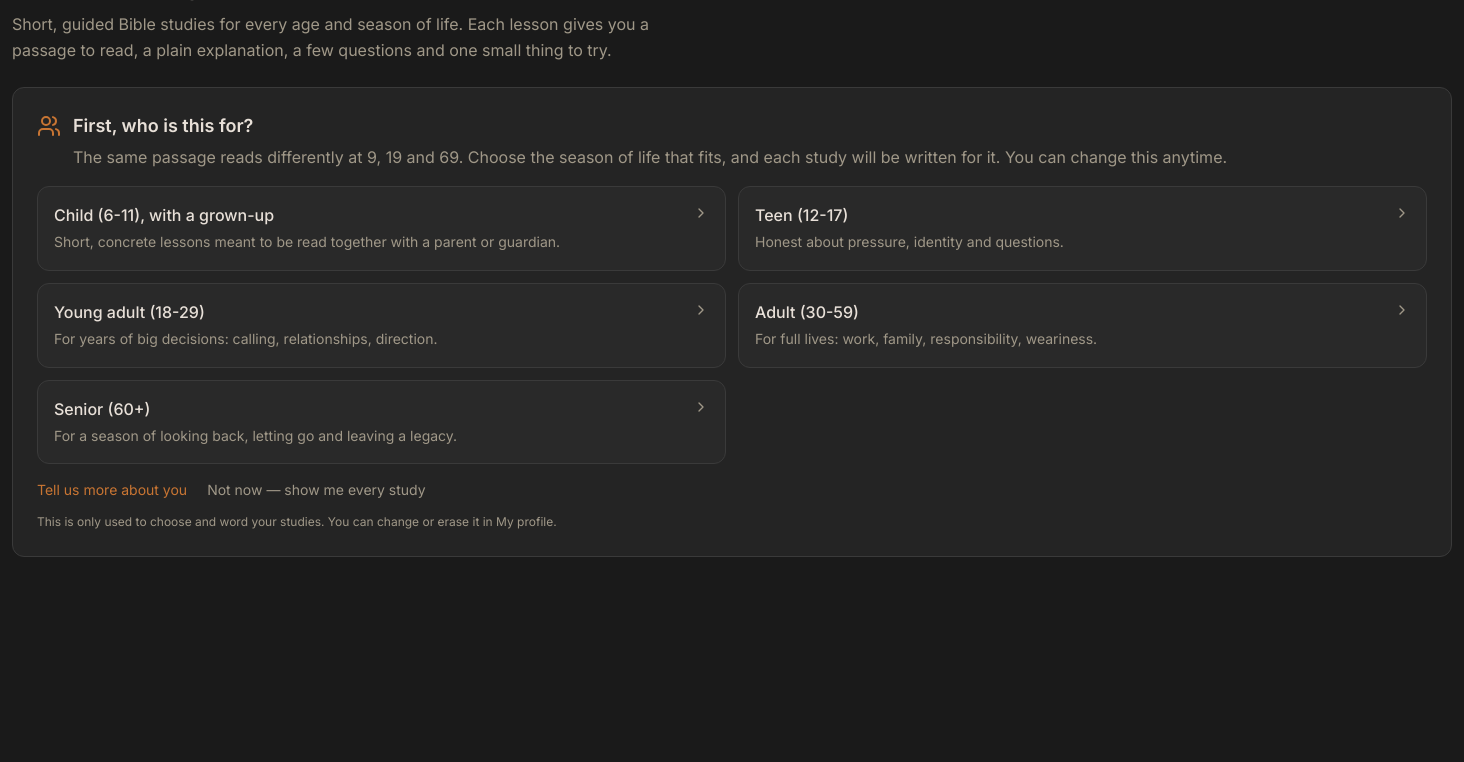
Scenario: StudyHubPage › asks who the studies are for on a first visit, then opens the library
Check: the heading "First, who is this for?" is shown, box x1=73 y1=115 x2=253 y2=136
Check: the text "For full lives: work, family, responsibility, weariness." is shown, box x1=755 y1=330 x2=1097 y2=347
Click the button "Adult (30-59)" at {"x": 807, "y": 312}, box x1=738 y1=283 x2=1427 y2=368
(page scrolled)
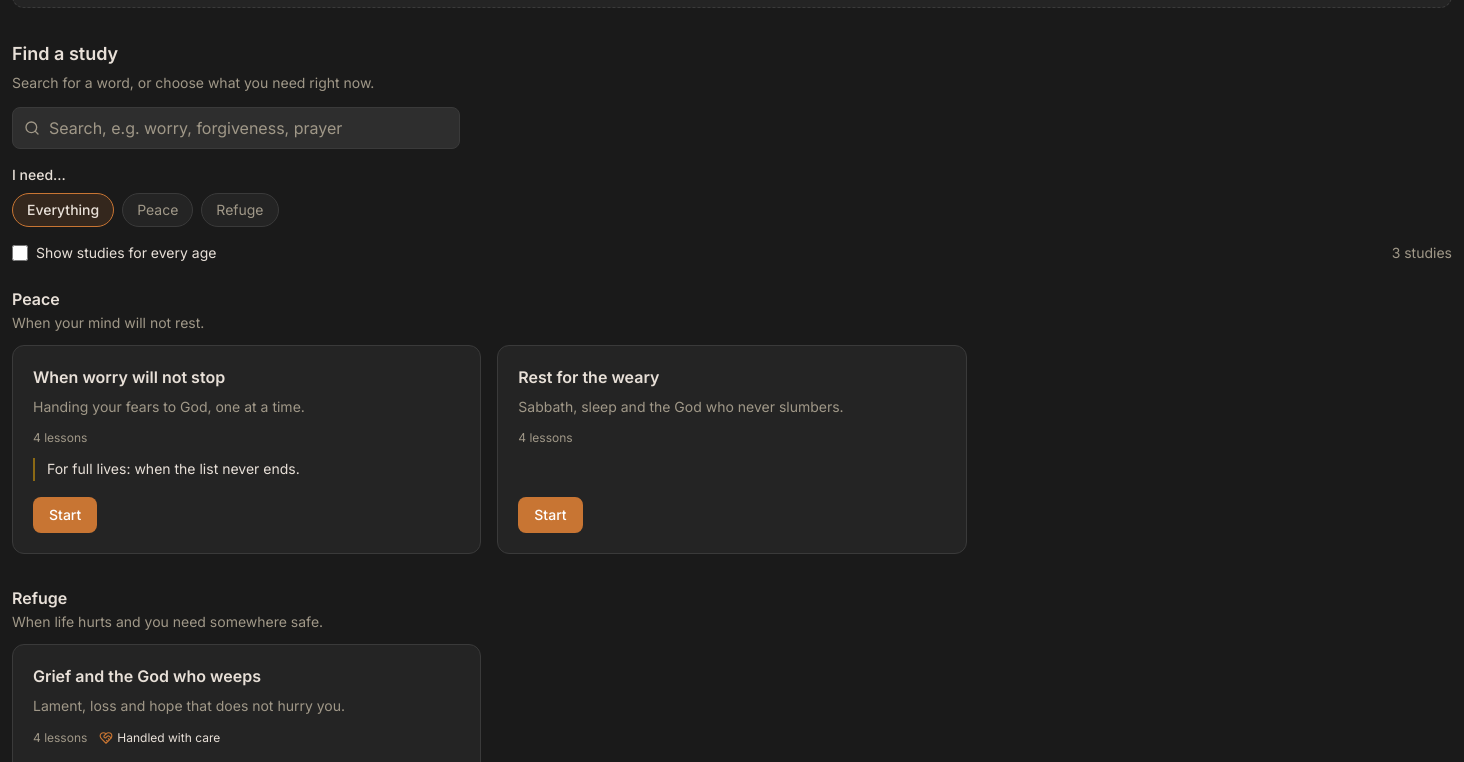
Check: the heading "Find a study" is shown, box x1=12 y1=43 x2=118 y2=64
Check: the heading "Rest for the weary" is shown, box x1=518 y1=366 x2=659 y2=388
